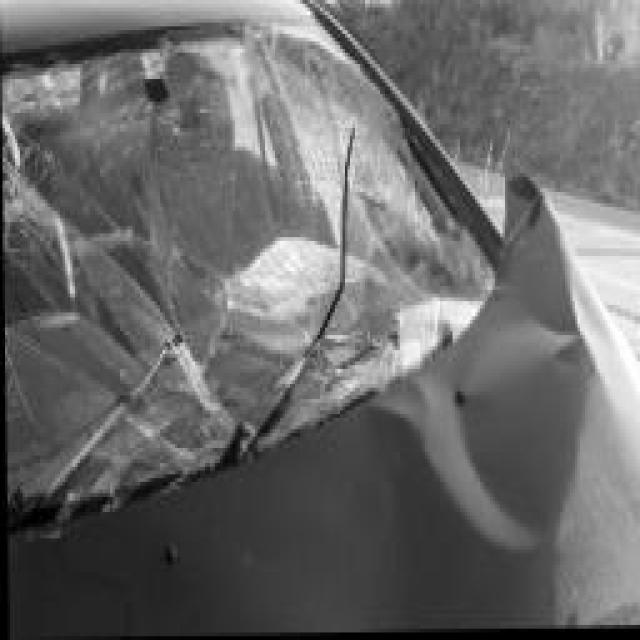Bonnet: (368, 196, 620, 633)
Windshield: (8, 23, 463, 512)
